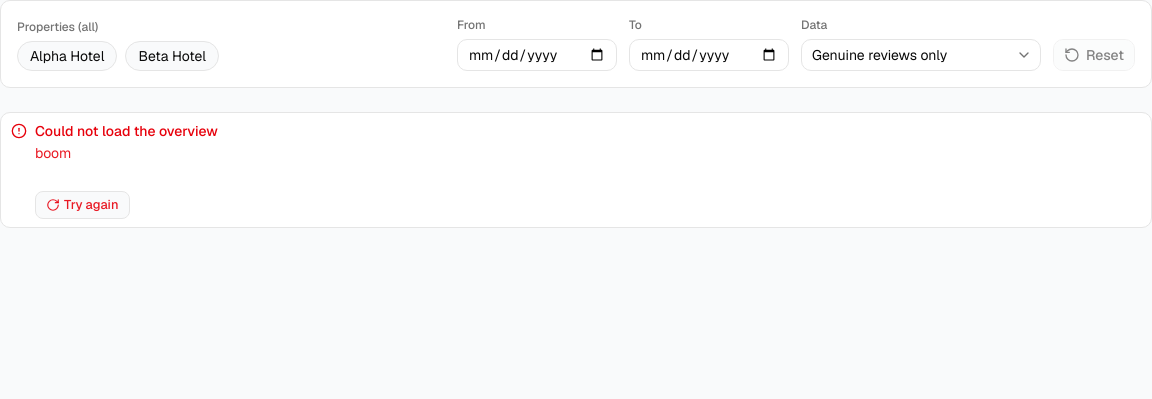
it: OverviewView › shows an error with a working retry
Expected: the text "Could not load the overview" is shown, [35,122,218,140]
Click the button "Try again".
click(82, 205)  # box [35,191,130,219]
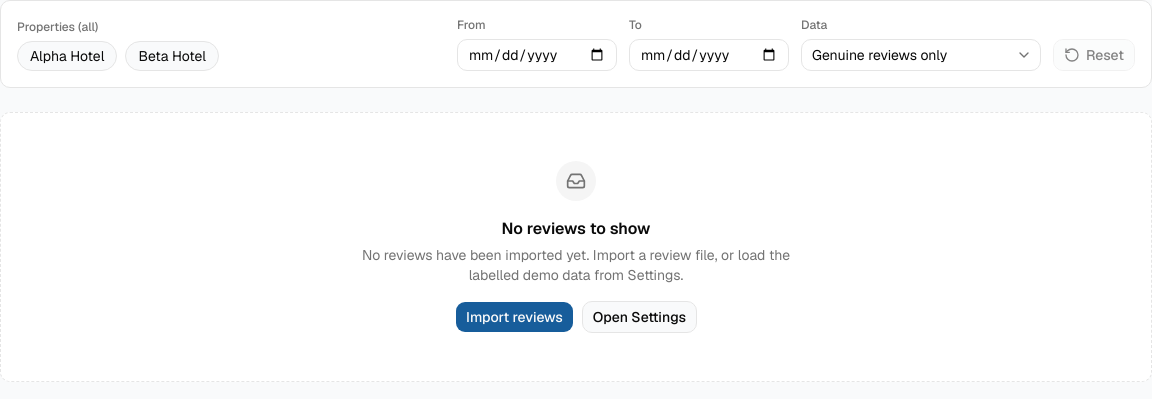
Result: the heading "No reviews to show" is shown at [502,217,650,241]
